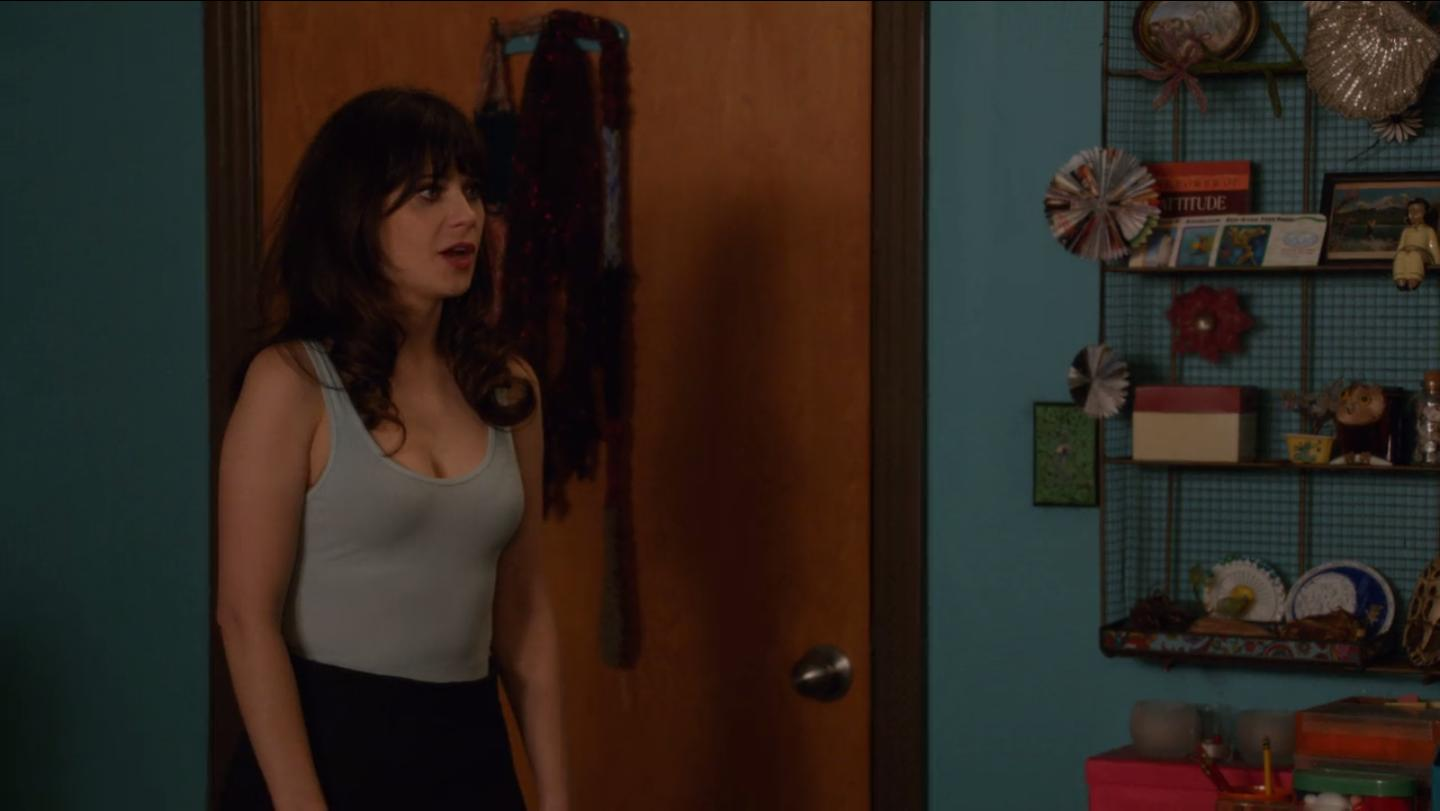person: (211, 78, 577, 811)
